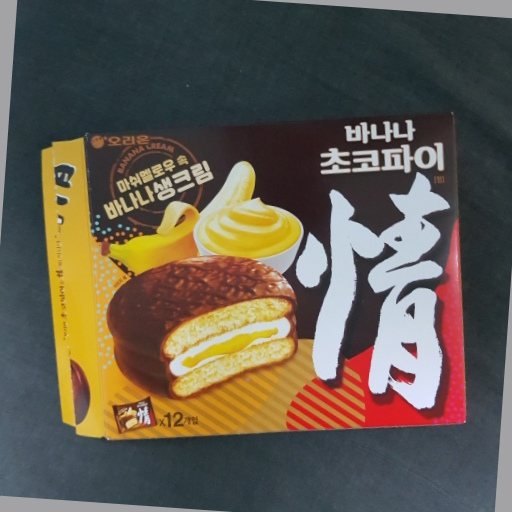Paper_0: (40, 104, 473, 448)
